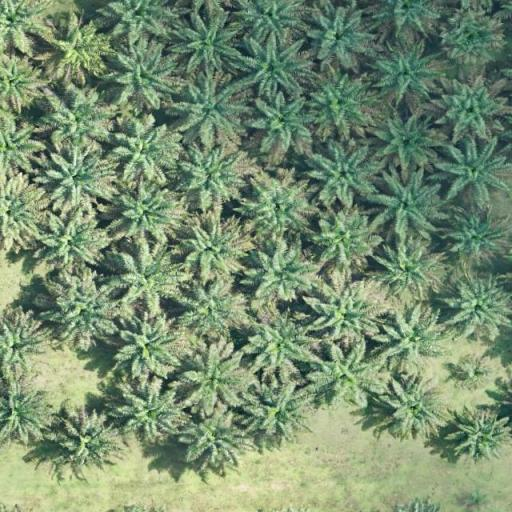Ganoderma: (56, 30, 97, 68)
